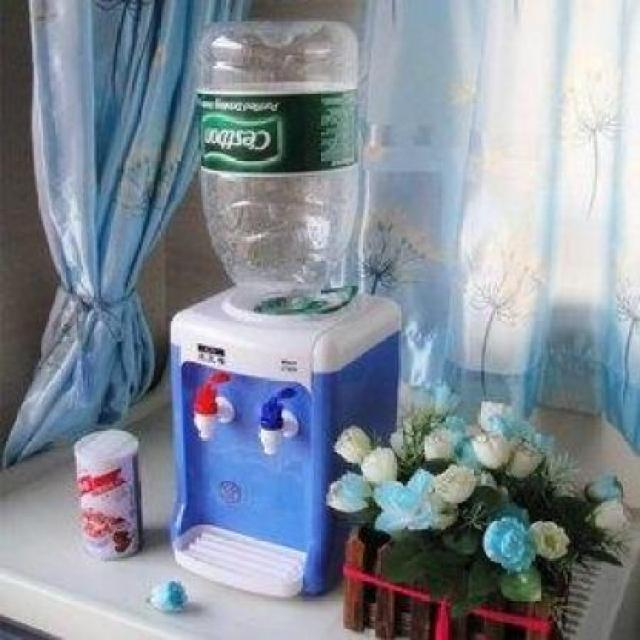cooler: (170, 23, 404, 599)
